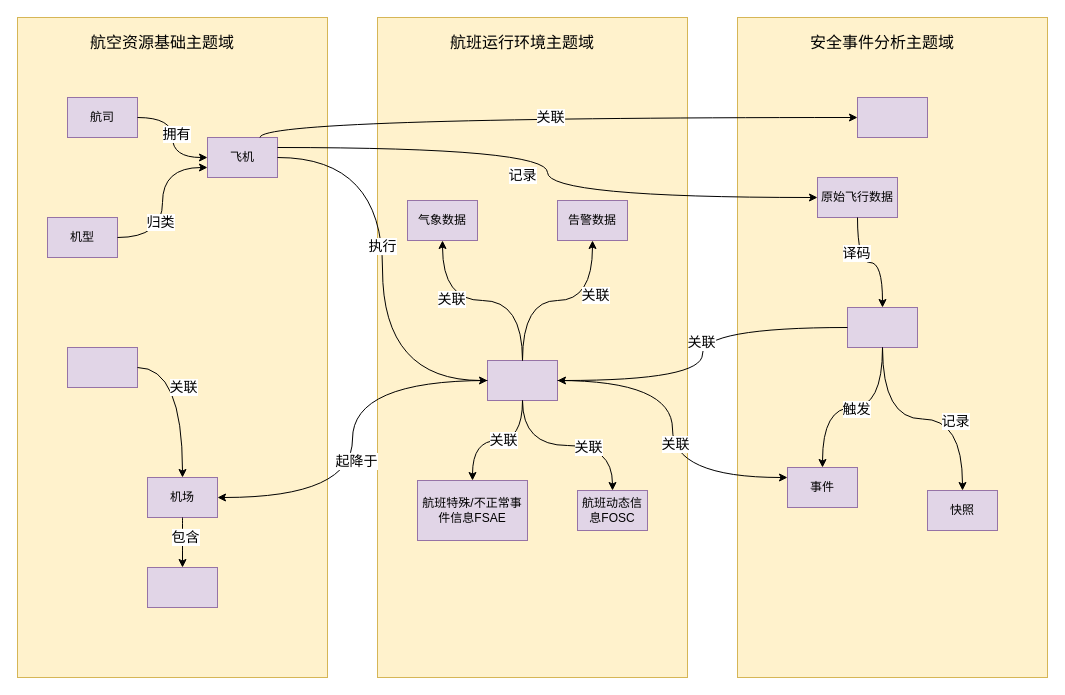
The diagram is 1065 pixels wide and 695 high, and some of its shapes have lost their labels. Here are the shapes that lost their labels. From the top down, the centre of each, then its label:
(x=892, y=117): 译码库
(x=882, y=327): QAR工程值
(x=102, y=367): 航图
(x=522, y=380): 航班信息
(x=182, y=587): 跑道
